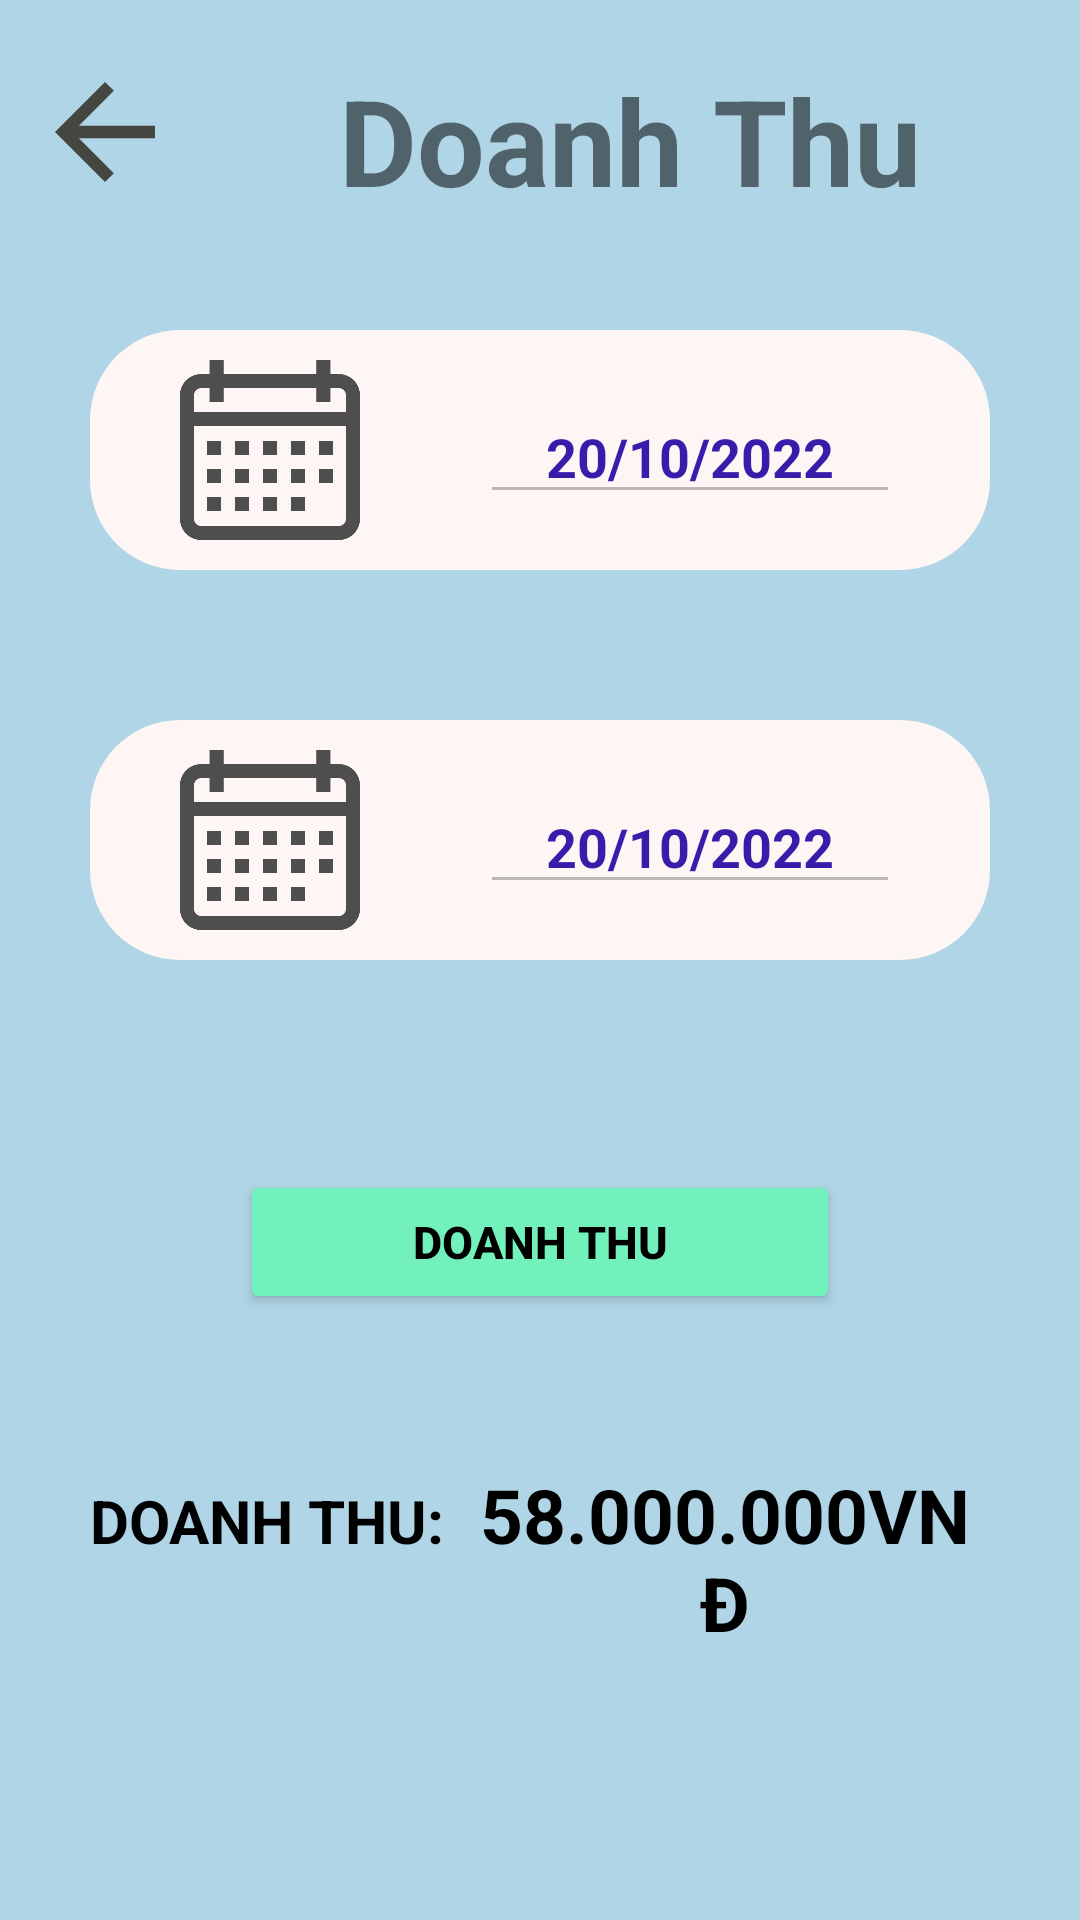

Where icons sit on this 1080px x 1920px app screen, as rect(x1, y1, x2, y2):
arrow back: rect(55, 82, 155, 182)
lich: rect(180, 360, 360, 540), rect(180, 750, 360, 930)
